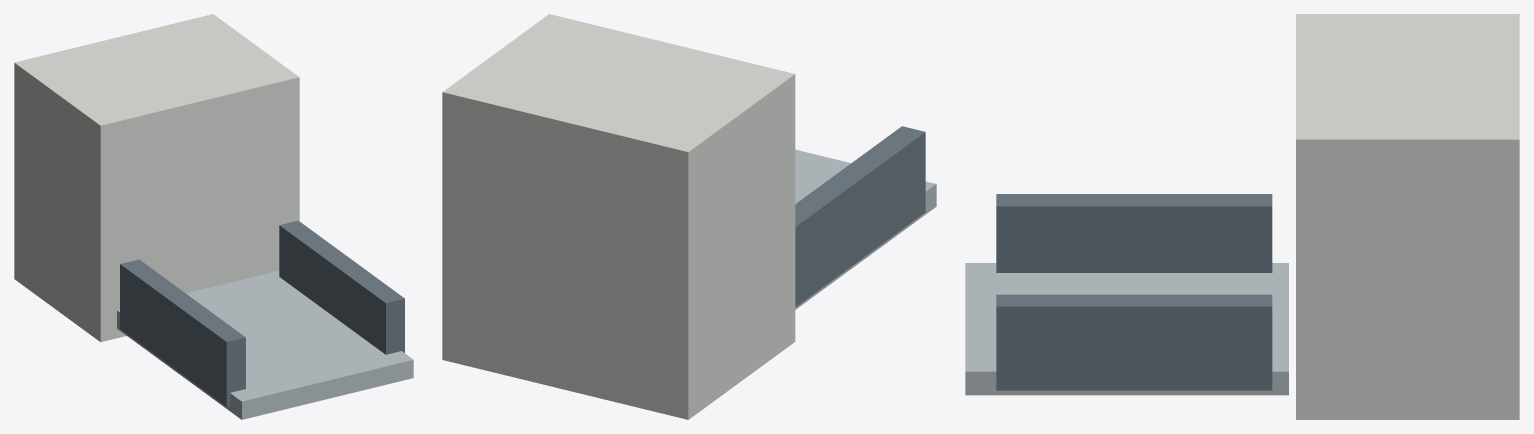
File: curiosity_turret.chimra.glb
3 views of the same model, side by side, from view 1: azimuth 30°, elevation 25°; view 2: azimuth 150°, elevation 25°; view 3: azimuth 270°, elevation 25° (orthographic). The views are drawn at different scales.
Parts seen in each view (by area): view 1: curiosity_turret.chimra.mesh_Pale_thermal_blanket, curiosity_turret.chimra.mesh_Machined_steel, curiosity_turret.chimra.mesh_Satin_aluminum; view 2: curiosity_turret.chimra.mesh_Pale_thermal_blanket, curiosity_turret.chimra.mesh_Machined_steel, curiosity_turret.chimra.mesh_Satin_aluminum; view 3: curiosity_turret.chimra.mesh_Pale_thermal_blanket, curiosity_turret.chimra.mesh_Machined_steel, curiosity_turret.chimra.mesh_Satin_aluminum.
Part boxes in pixels (left/top/right/bottom): curiosity_turret.chimra.mesh_Pale_thermal_blanket: left=14, top=14, right=299, bottom=342; curiosity_turret.chimra.mesh_Machined_steel: left=120, top=220, right=404, bottom=406; curiosity_turret.chimra.mesh_Satin_aluminum: left=117, top=270, right=413, bottom=419; curiosity_turret.chimra.mesh_Pale_thermal_blanket: left=442, top=14, right=795, bottom=419; curiosity_turret.chimra.mesh_Machined_steel: left=795, top=126, right=925, bottom=307; curiosity_turret.chimra.mesh_Satin_aluminum: left=795, top=149, right=936, bottom=309; curiosity_turret.chimra.mesh_Pale_thermal_blanket: left=1296, top=14, right=1519, bottom=419; curiosity_turret.chimra.mesh_Machined_steel: left=996, top=194, right=1272, bottom=390; curiosity_turret.chimra.mesh_Satin_aluminum: left=965, top=263, right=1288, bottom=395.
Size of the model in its own units: 0.125 by 0.13 by 0.233.
